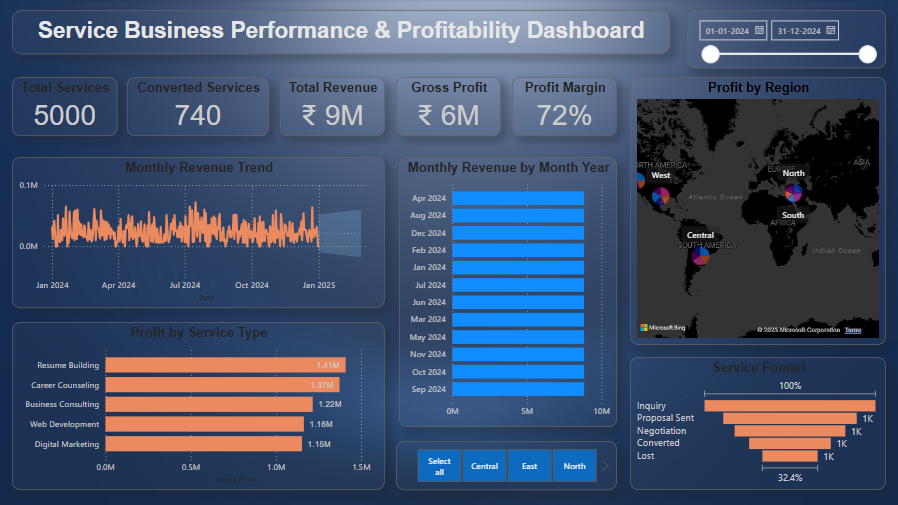

What the dashboard file says about the page in this screenshot:
{"tool":"powerbi","page":{"name":"Page 1","canvas":[1280,720],"ordinal":0},"visuals":[{"type":"card","title":"Total Services","fields":{"Values":["Service.Total Services"]},"box":[17.9,111.5,150,84],"z":0},{"type":"card","title":"Converted Services","fields":{"Values":["Service.Converted Services"]},"box":[182,110.9,202,83.9],"z":1000},{"type":"card","title":"Total Revenue","fields":{"Values":["Service.Total Revenue"]},"box":[399.6,110.9,149.3,83.9],"z":2000},{"type":"card","title":"Gross Profit","fields":{"Values":["Service.Gross Profit"]},"box":[564.6,110.9,149.3,83.9],"z":3000},{"type":"card","title":"Profit Margin","fields":{"Values":["Service.Profit Margin"]},"box":[729.6,110.9,149.3,83.9],"z":4000},{"type":"lineChart","title":"Monthly Revenue Trend","fields":{"Y":["Service.Total Revenue"],"Category":["Service.Date"]},"box":[18.5,224.7,530.5,214.8],"z":5000},{"type":"funnel","title":"Service Funnel ","fields":{"Category":["Service.Status"],"Y":["Service.Total Services"]},"box":[897.4,509.2,364.1,189.2],"z":6000},{"type":"barChart","title":"Profit by Service Type","fields":{"Category":["Service.Service_Type"],"Y":["Service.Gross Profit"]},"box":[18.5,459.4,530.5,238.9],"z":7000},{"type":"map","title":"Profit by Region","fields":{"Category":["Service.Region"],"Size":["Service.Total Revenue"],"Series":["Service.Service_Type"]},"box":[897.4,110.9,364.1,381.2],"z":8000},{"type":"barChart","fields":{"Category":["Calendar.Month Year"],"Y":["Calendar.Monthly Revenue"]},"box":[568.9,224.7,310,384],"z":9000},{"type":"textbox","box":[18.5,15.6,935.8,62.6],"z":10000},{"type":"slicer","fields":{"Values":["Service.Region"]},"box":[564.6,628.6,314.3,69.7],"z":11000},{"type":"slicer","fields":{"Values":["Service.Date"]},"box":[978.5,15.6,283,83],"z":12000}]}

Visuals, with their boxes in screenshot pixels (x1, y1, x2, y2), scaled from the page's 1280x720 canvas onto the 898x505 screenshot:
"Total Services" card: 13, 78, 118, 137
"Converted Services" card: 128, 78, 269, 137
"Total Revenue" card: 280, 78, 385, 137
"Gross Profit" card: 396, 78, 501, 137
"Profit Margin" card: 512, 78, 617, 137
"Monthly Revenue Trend" lineChart: 13, 158, 385, 308
"Service Funnel " funnel: 630, 357, 885, 490
"Profit by Service Type" barChart: 13, 322, 385, 490
"Profit by Region" map: 630, 78, 885, 345
barChart - Calendar.Month Year x Calendar.Monthly Revenue: 399, 158, 617, 427
textbox: 13, 11, 670, 55
slicer - Service.Region: 396, 441, 617, 490
slicer - Service.Date: 686, 11, 885, 69
